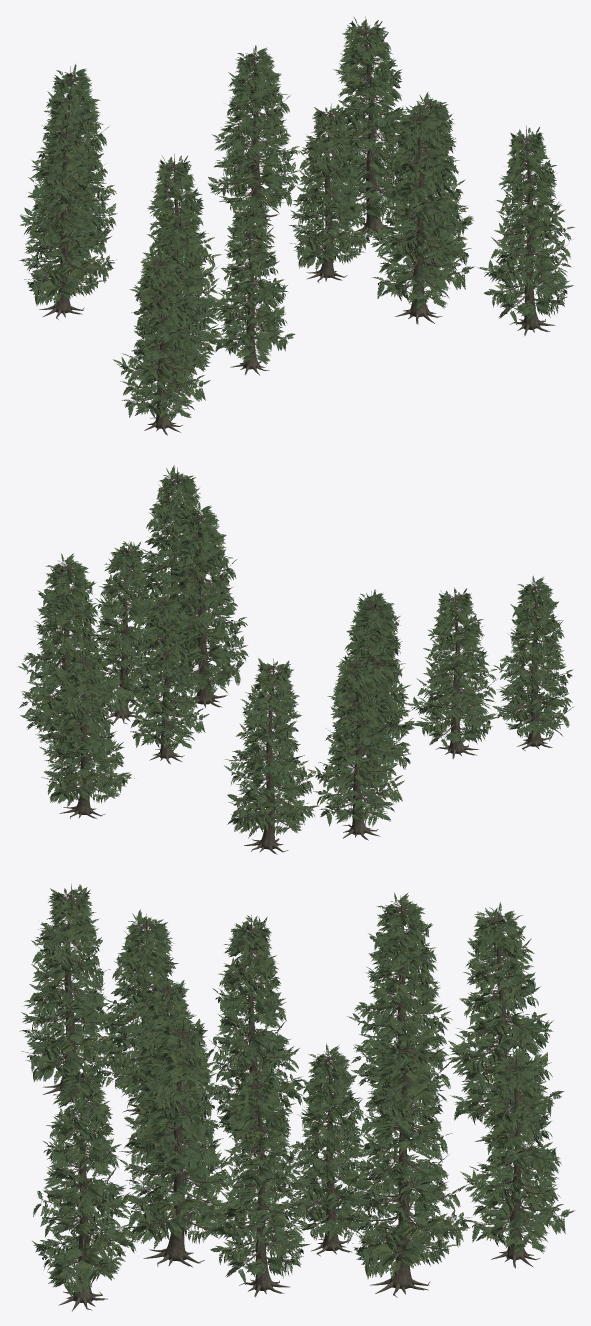
The model's file is FOREST_Trees_Mid.fbx.
The picture shows the model from 3 angles, top to bottom: view 1: azimuth 30°, elevation 25°; view 2: azimuth 150°, elevation 25°; view 3: azimuth 270°, elevation 25°; orthographic projection. The views are drawn at different scales.
Parts seen in each view (by area): view 1: FOREST_Trees_Mid; view 2: FOREST_Trees_Mid; view 3: FOREST_Trees_Mid.
Part boxes in pixels (x1,y1,x2,y2): FOREST_Trees_Mid: (19, 16, 574, 435); FOREST_Trees_Mid: (18, 465, 573, 854); FOREST_Trees_Mid: (19, 884, 575, 1311).
Size of the model in its own units: 30.12 by 14.05 by 27.41.
